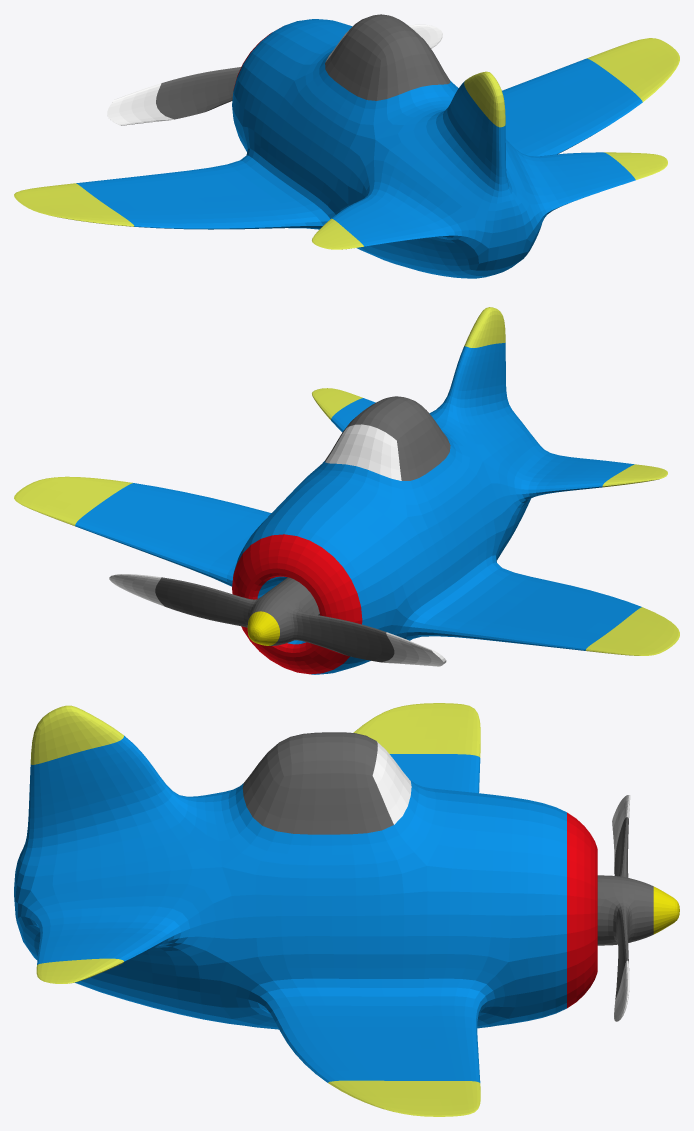
3 views of the same model, one above another, from view 1: azimuth 30°, elevation 25°; view 2: azimuth 150°, elevation 25°; view 3: azimuth 270°, elevation 25° (orthographic). The views are drawn at different scales.
Parts seen in each view (by area): view 1: Cylinder, Cylinder.001; view 2: Cylinder, Cylinder.001; view 3: Cylinder, Cylinder.001.
Boxes of the visible parts, x1,y1,x2,y2 form: Cylinder: (14, 14, 679, 278); Cylinder.001: (107, 24, 442, 125); Cylinder: (14, 307, 679, 674); Cylinder.001: (109, 574, 446, 666); Cylinder: (14, 703, 597, 1116); Cylinder.001: (597, 795, 679, 1021).
Size of the model in its own units: 6.78 by 2.4 by 4.61.
